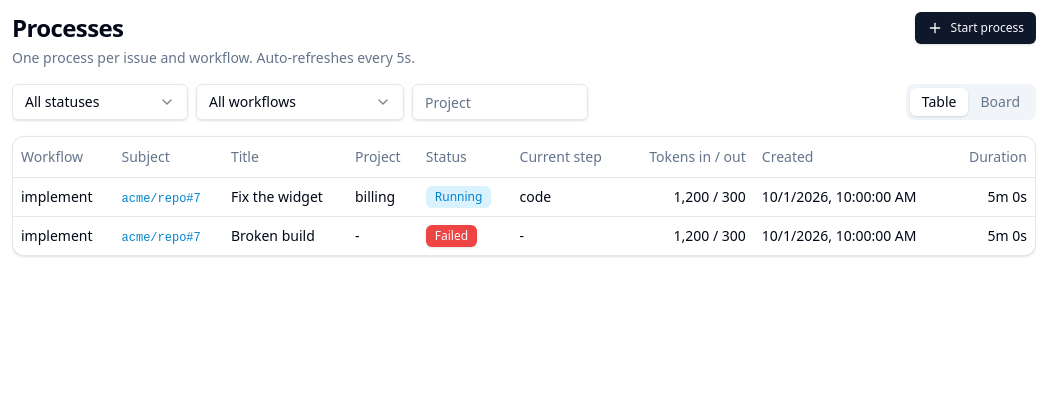
Test: ProcessList › switches to the board grouped by status
Expected: the link "Fix the widget" is shown, [231, 186, 323, 206]
Click the tab "Board" at (1000, 102), box [968, 88, 1032, 116]
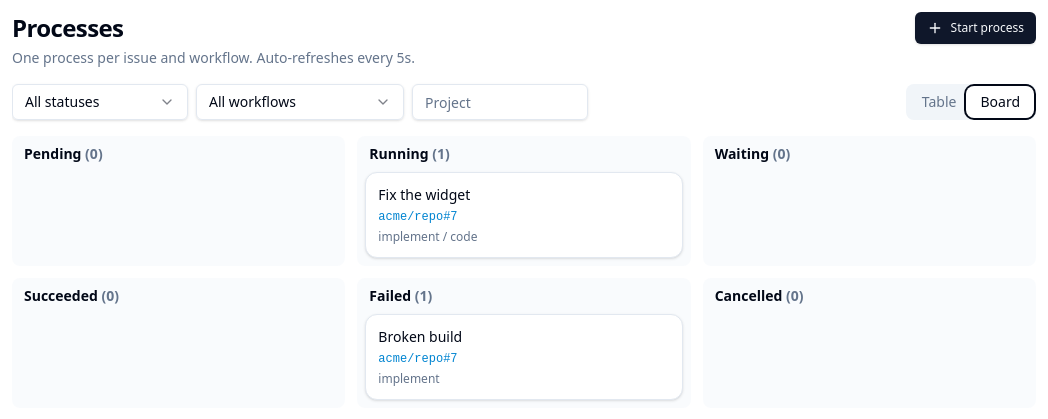
Expected: the link "Broken build" is shown, [378, 327, 462, 346]
Now the table is gone
